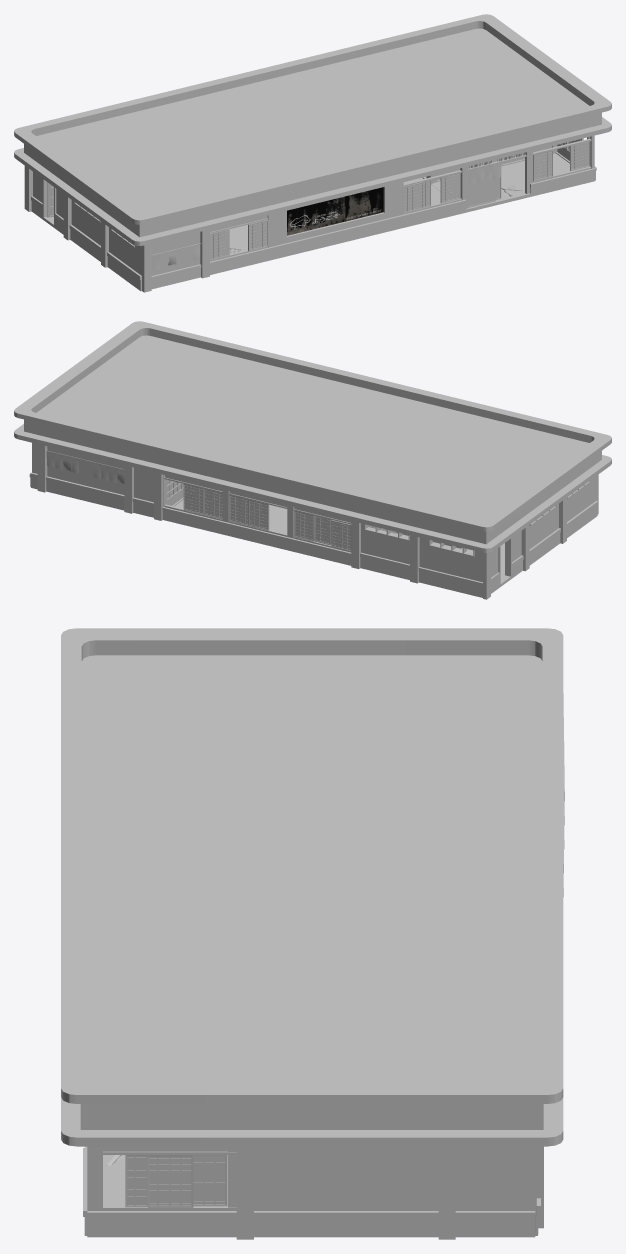
Rendered from Area1Building04.fbx.
3 renders of one model, top to bottom at view 1: azimuth 30°, elevation 25°; view 2: azimuth 150°, elevation 25°; view 3: azimuth 270°, elevation 25°, orthographic. The views are drawn at different scales.
Parts seen in each view (by area): view 1: Area1Building04Walls, Area1Building04Floor; view 2: Area1Building04Walls, Area1Building04Floor; view 3: Area1Building04Walls, Area1Building04Floor.
Boxes of the visible parts, x1=… form: Area1Building04Walls: x1=14, y1=14, x2=611, y2=292; Area1Building04Floor: x1=31, y1=153, x2=569, y2=253; Area1Building04Walls: x1=14, y1=321, x2=611, y2=599; Area1Building04Floor: x1=174, y1=500, x2=523, y2=593; Area1Building04Walls: x1=61, y1=628, x2=564, y2=1239; Area1Building04Floor: x1=84, y1=1146, x2=227, y2=1205.
Bounding box in the file's own units: 1279 × 197 × 583.
